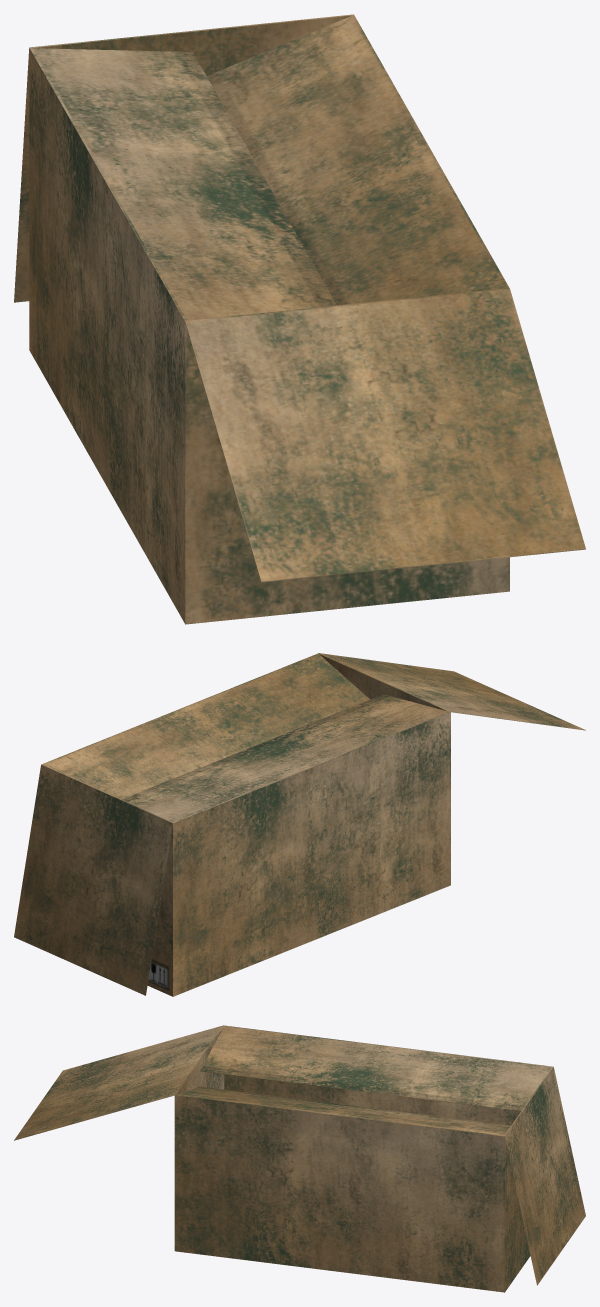
File: kardus.fbx
3 views of the same model, one above another, from view 1: azimuth 30°, elevation 25°; view 2: azimuth 150°, elevation 25°; view 3: azimuth 270°, elevation 25° (orthographic). The views are drawn at different scales.
Parts seen in each view (by area): view 1: Box; view 2: Box; view 3: Box.
Part boxes in pixels (<box>): Box: <box>14,14,585,624</box>; Box: <box>14,653,585,996</box>; Box: <box>14,1025,585,1292</box>.
Bounding box in the file's own units: 178 × 95.94 × 319.
